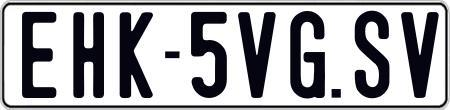5: (191, 12, 229, 100)
E: (22, 9, 56, 95)
G: (289, 11, 324, 99)
H: (73, 9, 110, 99)
K: (120, 12, 157, 98)
S: (355, 11, 391, 98)
V: (238, 9, 279, 97), (400, 10, 431, 98)
